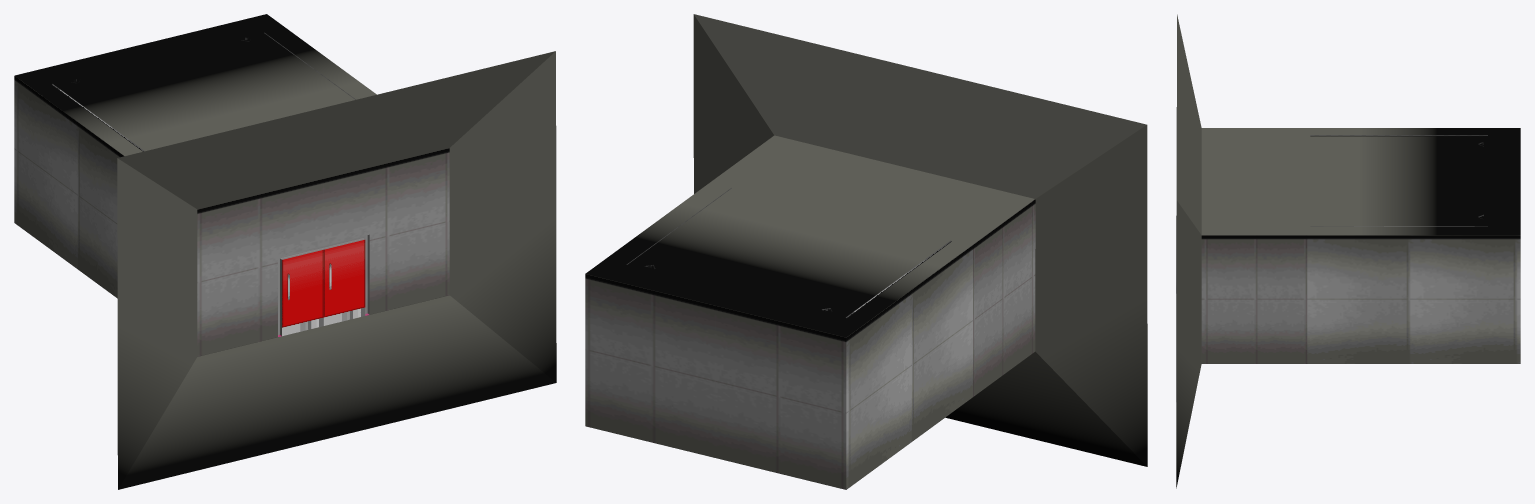
3 views of the same model, side by side, from view 1: azimuth 30°, elevation 25°; view 2: azimuth 150°, elevation 25°; view 3: azimuth 270°, elevation 25° (orthographic). The views are drawn at different scales.
Parts seen in each view (by area): view 1: photostudio; view 2: photostudio; view 3: photostudio.
Part boxes in pixels (<box>): photostudio: <box>14,14,556,489</box>; photostudio: <box>585,14,1147,489</box>; photostudio: <box>1176,14,1520,488</box>.
Size of the model in its own units: 9 by 6.5 by 7.02.
Materials: 20 (20 with a texture image).
